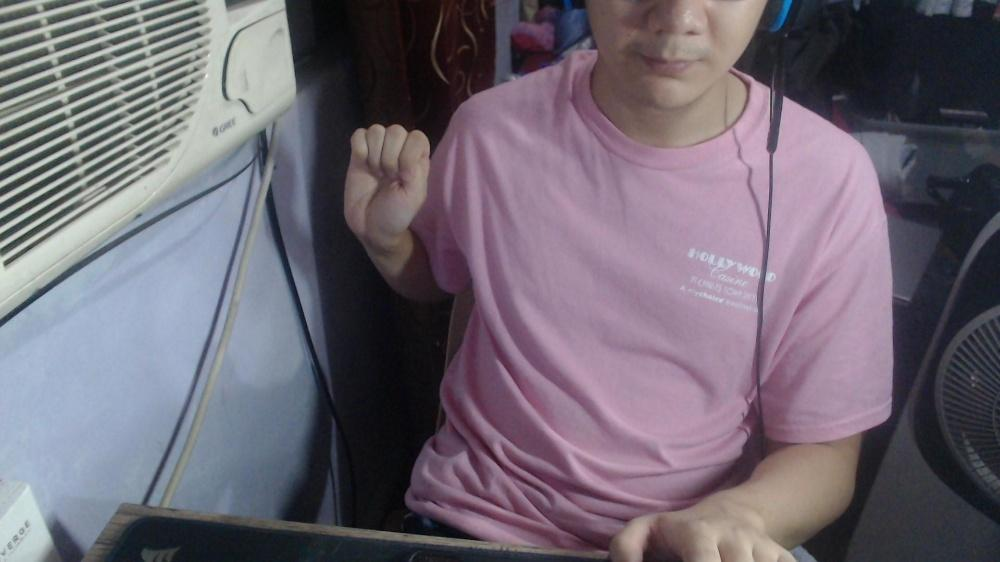m: (341, 121, 432, 237)
